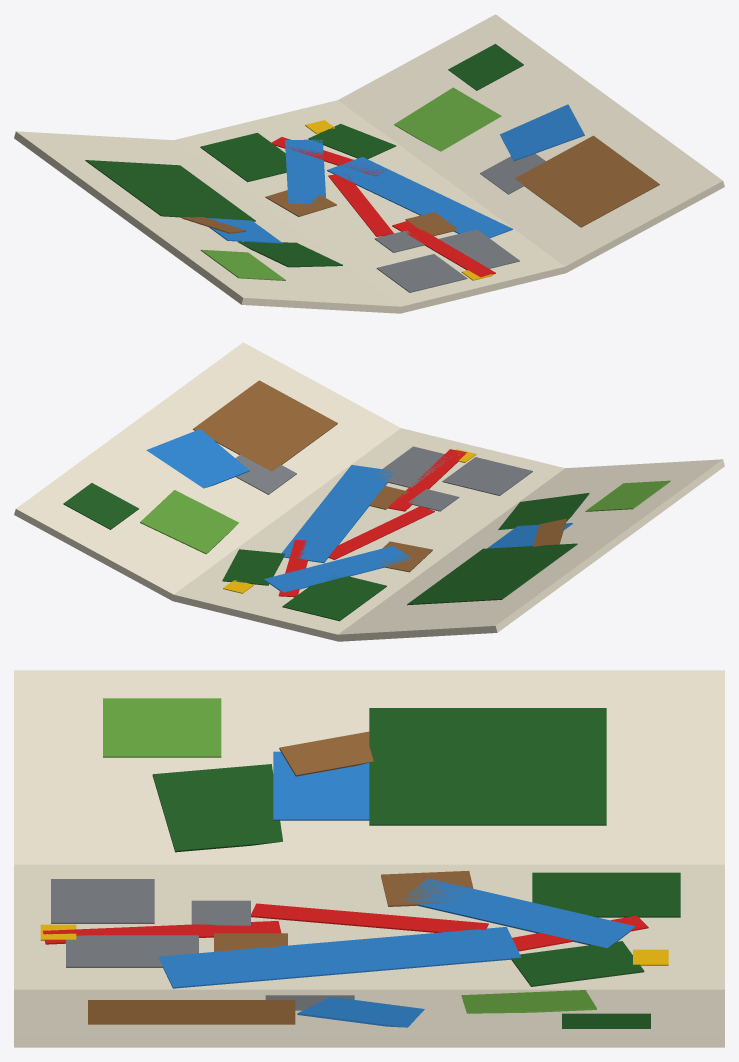
File: mapa.obj
The picture shows the model from 3 angles, top to bottom: view 1: azimuth 30°, elevation 25°; view 2: azimuth 150°, elevation 25°; view 3: azimuth 270°, elevation 25°; orthographic projection. The views are drawn at different scales.
Visible parts, largest first — view 1: Mapa_Papel_Cicloturismo; view 2: Mapa_Papel_Cicloturismo; view 3: Mapa_Papel_Cicloturismo.
Boxes of the visible parts, <box> form: Mapa_Papel_Cicloturismo: <box>14,14,724,313</box>; Mapa_Papel_Cicloturismo: <box>14,342,724,641</box>; Mapa_Papel_Cicloturismo: <box>14,670,724,1047</box>.
Size of the model in its own units: 0.2945 by 0.0315 by 0.24.
